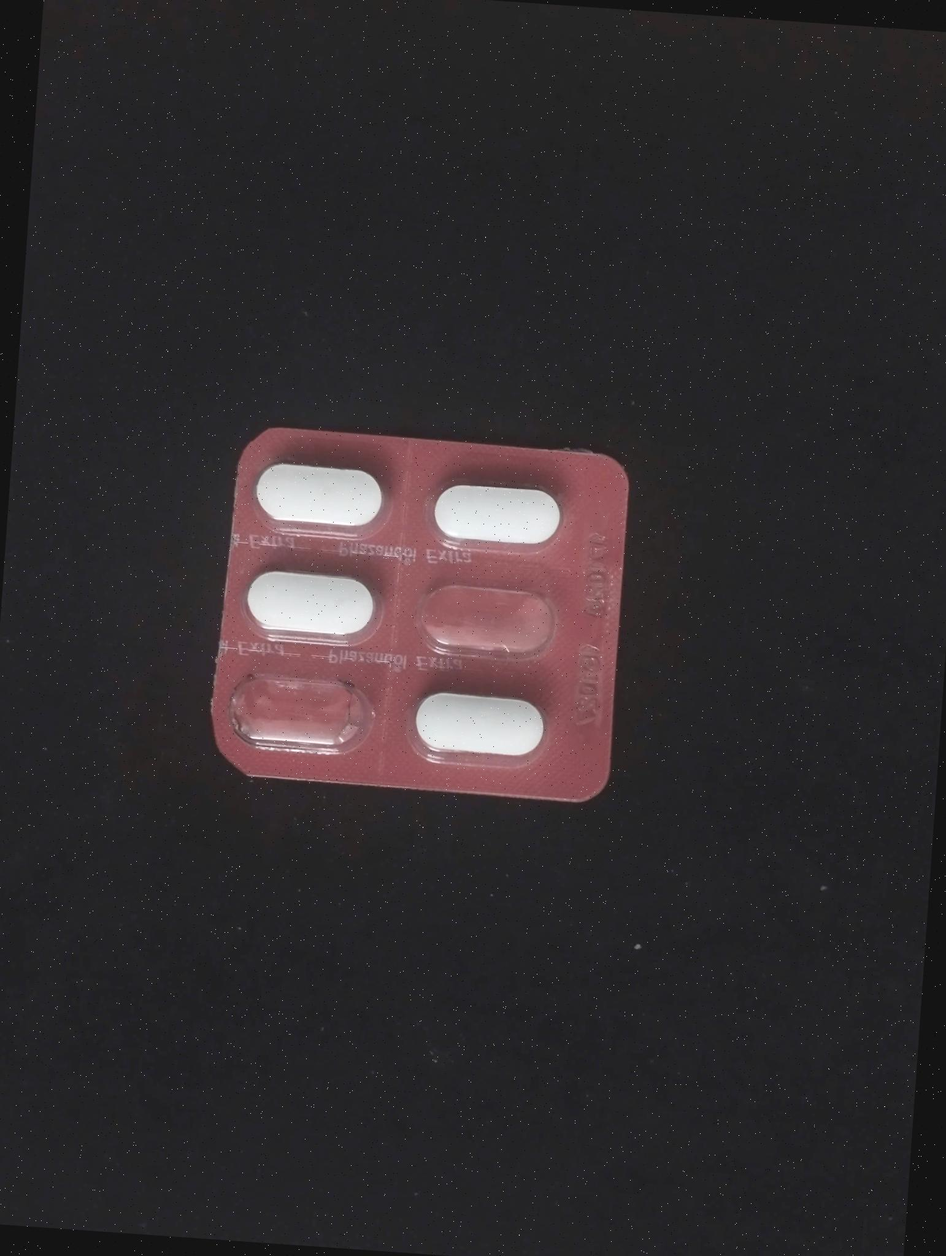Empty: (212, 660, 386, 764), (403, 571, 573, 670)
Full: (418, 472, 576, 558), (406, 679, 555, 767), (233, 559, 381, 645), (250, 458, 394, 531)
